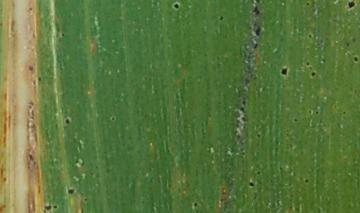tarspot: (278, 64, 291, 77), (65, 186, 76, 198), (251, 5, 262, 17), (170, 1, 183, 11), (345, 1, 358, 11), (216, 14, 228, 23), (63, 116, 72, 127), (254, 26, 263, 37), (28, 152, 37, 162), (82, 195, 91, 204), (58, 31, 68, 39), (292, 115, 299, 126), (191, 201, 200, 209), (43, 202, 51, 211), (52, 203, 60, 212), (306, 32, 314, 41), (254, 169, 263, 177), (255, 131, 263, 140), (303, 60, 313, 67), (303, 177, 311, 185), (309, 71, 317, 79), (241, 116, 249, 124), (110, 115, 117, 123), (36, 76, 44, 83), (352, 56, 360, 63), (240, 99, 248, 106), (27, 65, 35, 72), (248, 181, 255, 188), (253, 42, 259, 50), (239, 108, 247, 114), (344, 41, 350, 48), (341, 110, 349, 115), (351, 37, 357, 43), (304, 1, 311, 6), (314, 110, 321, 115)
